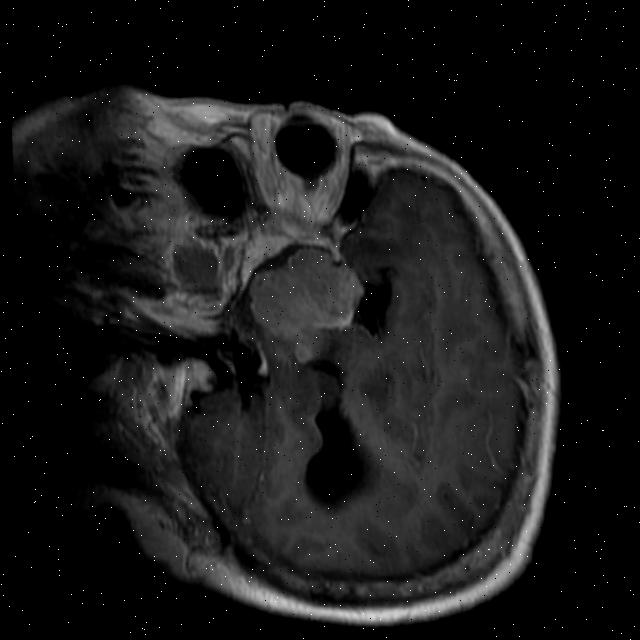Meningioma: (243, 242, 369, 347)
